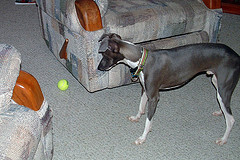tennis ball: (55, 78, 71, 92)
